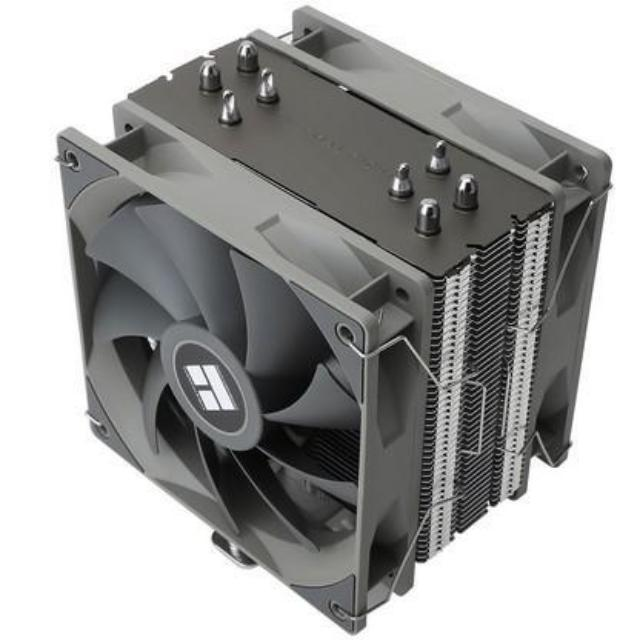CPU_Fan: (58, 6, 612, 632)
